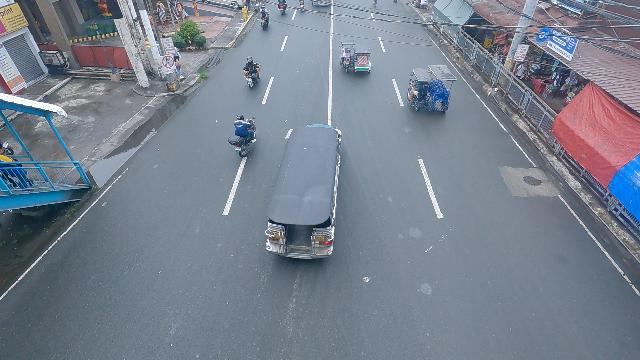jeepney: (261, 123, 346, 268)
motorcycle: (228, 111, 261, 161), (240, 56, 266, 93), (260, 10, 271, 30), (278, 1, 287, 15), (299, 0, 305, 11)
